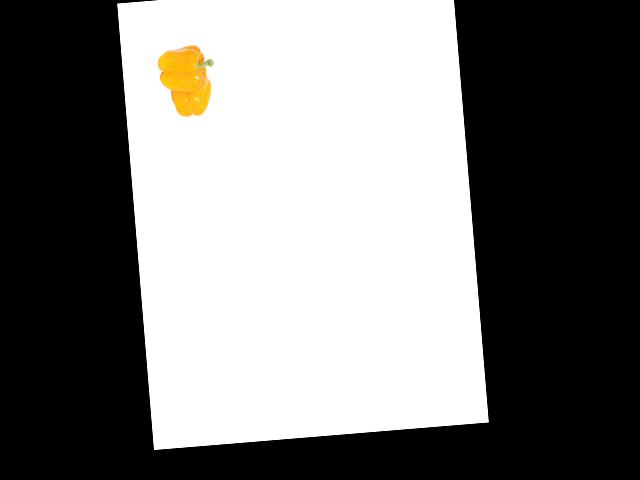bell_pepper: (164, 73, 215, 121)
